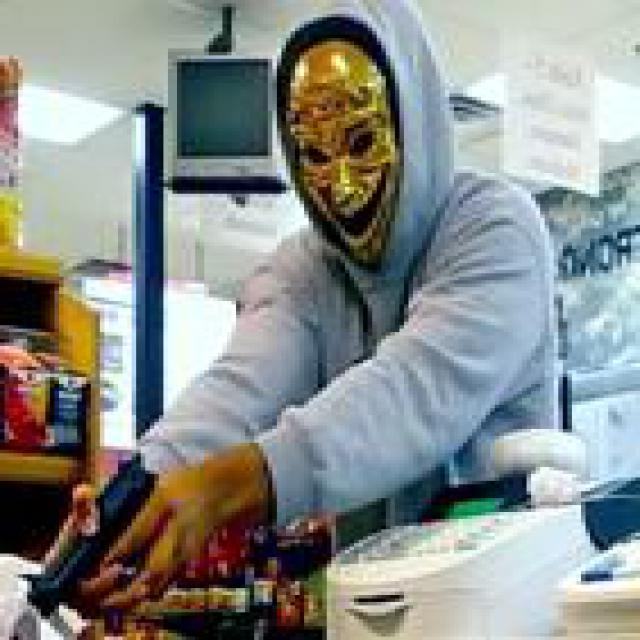Gun: (27, 450, 195, 620)
